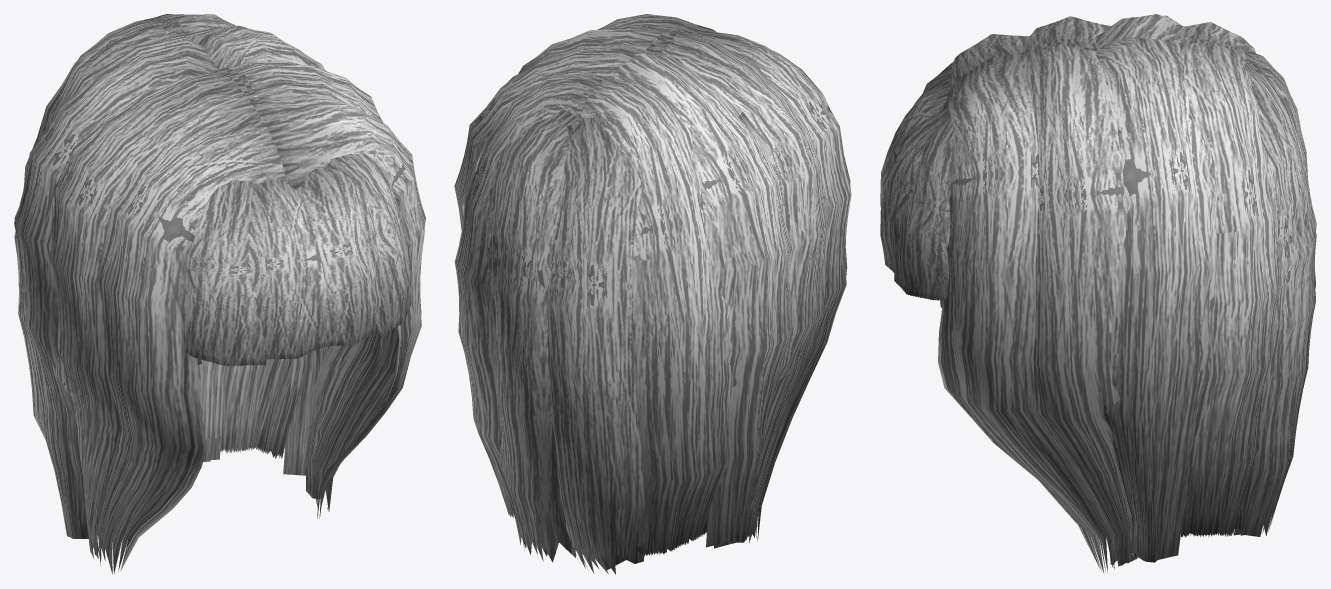
The model's file is daz_hair_hime.glb.
3 renders of one model, left to right at view 1: azimuth 30°, elevation 25°; view 2: azimuth 150°, elevation 25°; view 3: azimuth 270°, elevation 25°, orthographic. The views are drawn at different scales.
Parts seen in each view (by area): view 1: daz_hair_hime; view 2: daz_hair_hime; view 3: daz_hair_hime.
Boxes of the visible parts, x1,y1,x2,y2 form: daz_hair_hime: (14, 14, 425, 574); daz_hair_hime: (454, 14, 851, 574); daz_hair_hime: (880, 14, 1316, 572).
Bounding box in the file's own units: 0.1771 × 0.2539 × 0.2027.
Materials: 1 (1 with a texture image).
